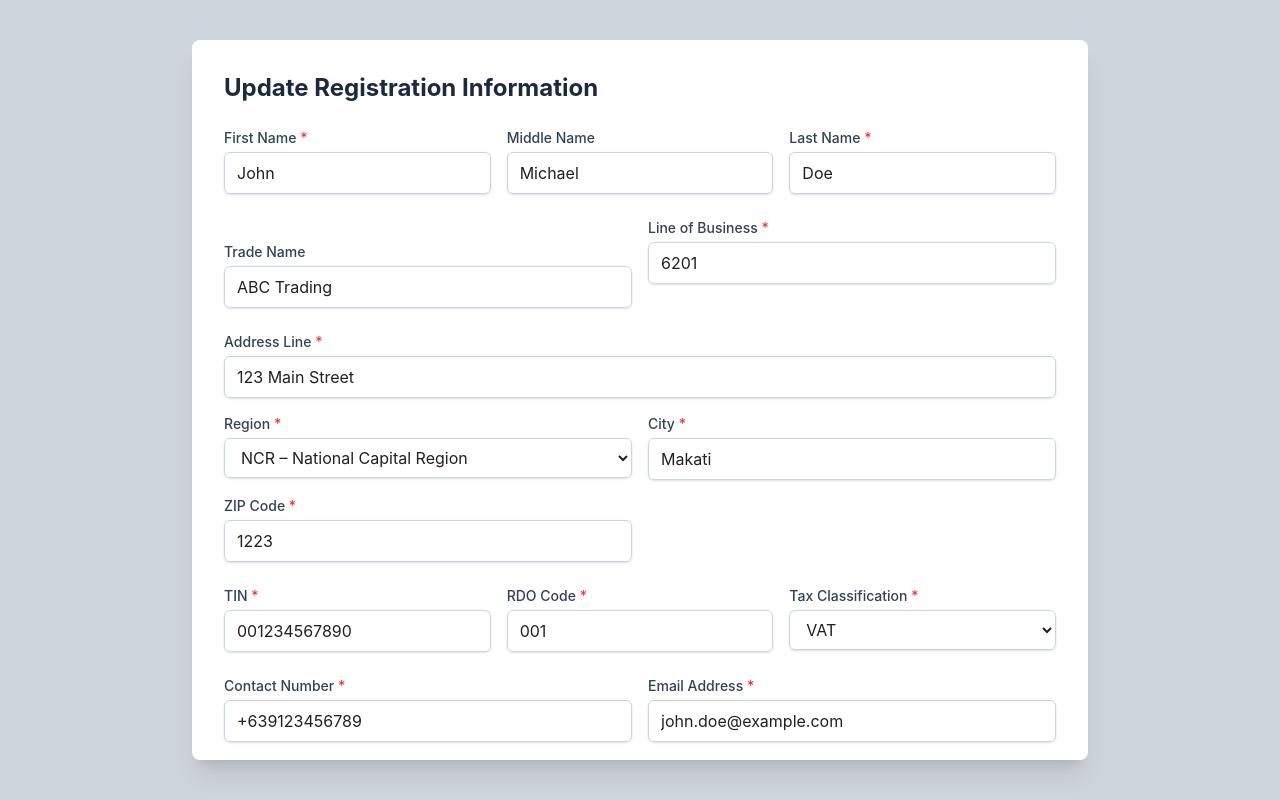
Scenario: UpdateOrganizationRegistrationModal › Form Validation › should validate TIN format
Replace the text in the field showing "001234567890" below "TIN" with "123" at x=357, y=631, box [224,610,491,652]
(page scrolled)
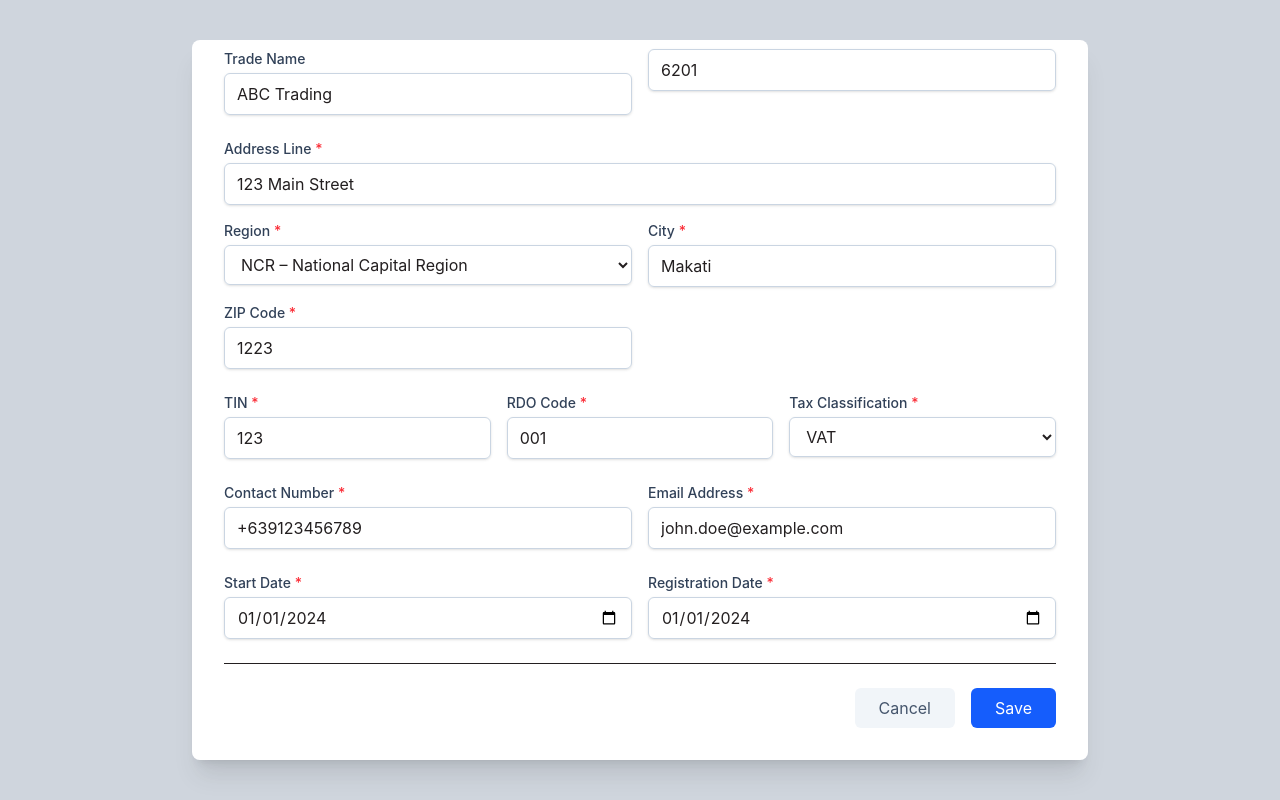
Click the button "Save" at x=1014, y=708, box [971,688,1056,728]
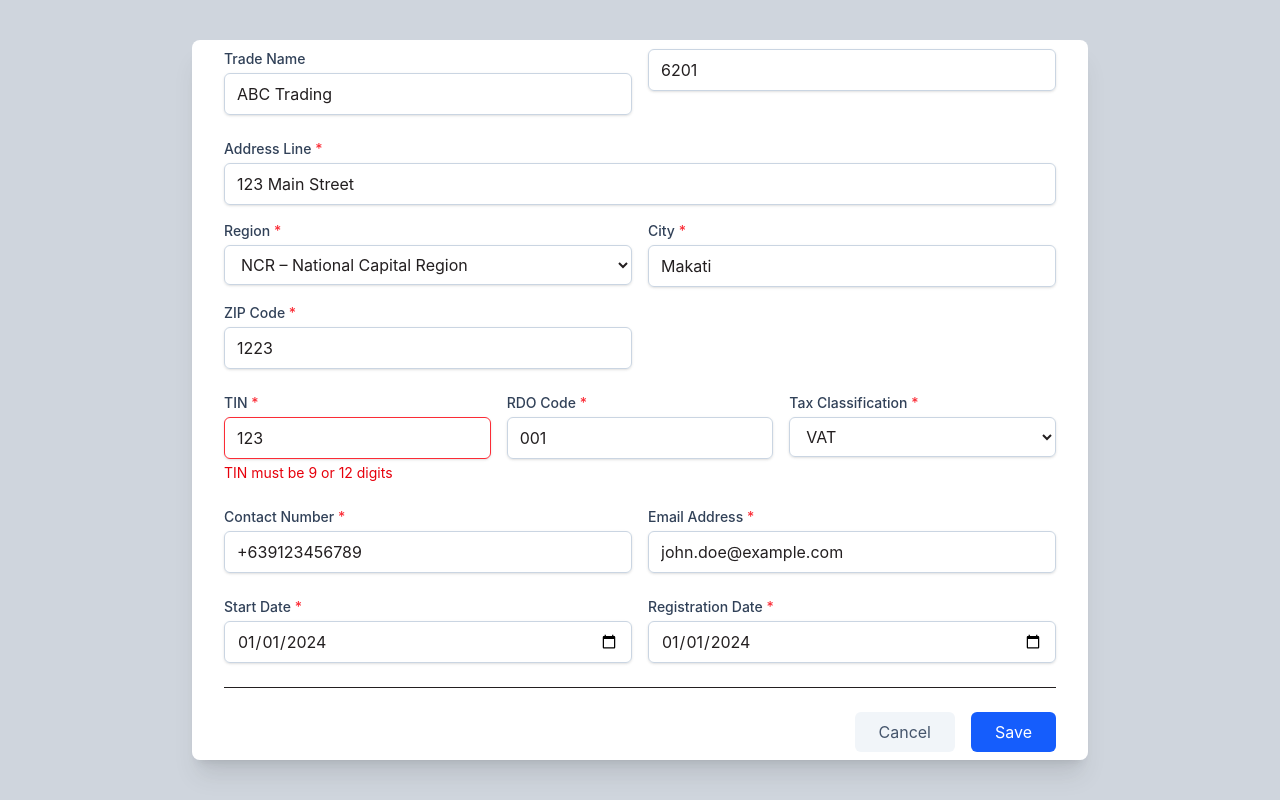
expect the text "TIN must be 9 or 12 digits" is shown: met, box [224,464,393,481]
